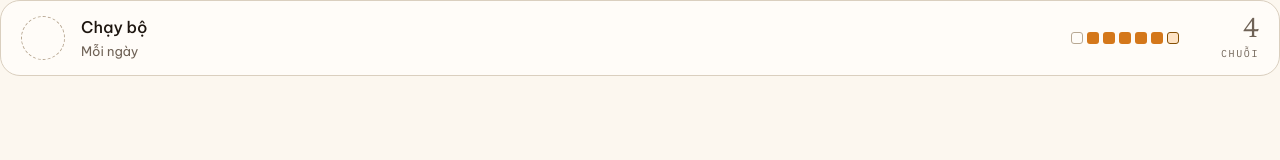
Test case: HabitOverviewRow › puts the ring back and explains when saving fails
This screenshot has width=1280, height=160.
Click the button named "Ghi dấu Chạy bộ".
click(43, 38)  # box [21, 16, 65, 60]
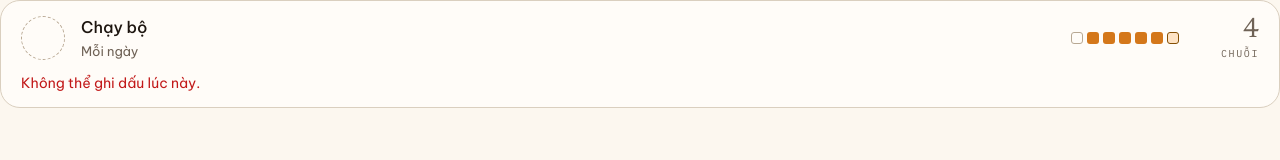
Expected: the message reads "Không thể ghi dấu lúc này.", [21, 74, 200, 92]
